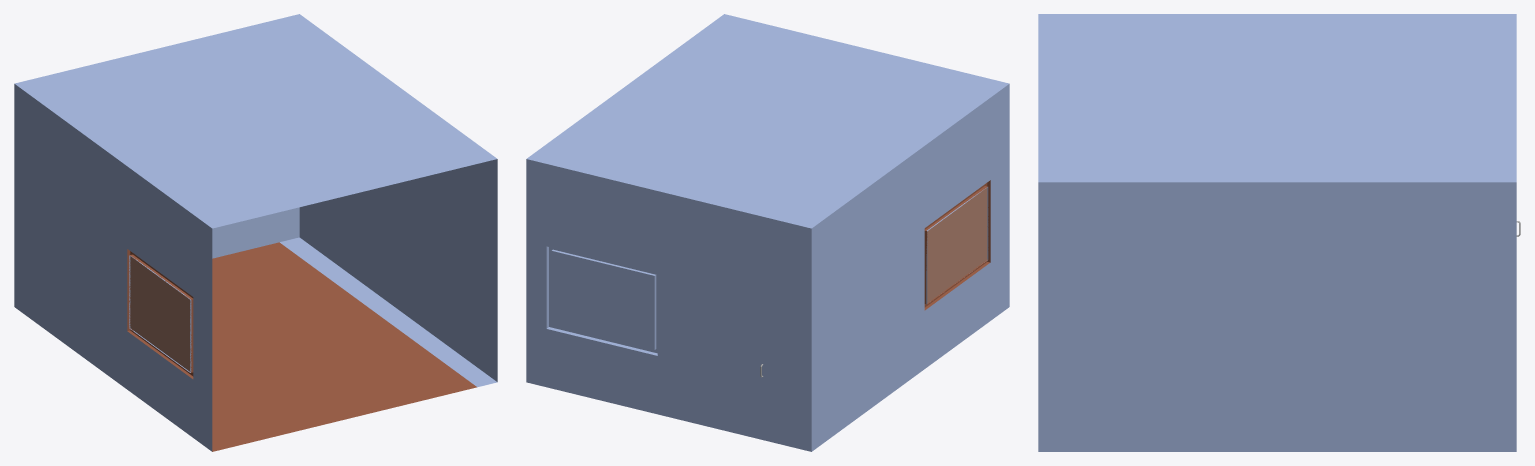
The model's file is Room.fbx.
3 renders of one model, left to right at view 1: azimuth 30°, elevation 25°; view 2: azimuth 150°, elevation 25°; view 3: azimuth 270°, elevation 25°, orthographic. The views are drawn at different scales.
Parts seen in each view (by area): view 1: Cube.013; view 2: Cube.013; view 3: Cube.013.
Boxes of the visible parts, bbox=[...] form: Cube.013: bbox=[14, 14, 497, 451]; Cube.013: bbox=[526, 14, 1009, 451]; Cube.013: bbox=[1038, 14, 1516, 451].
Size of the model in its own units: 735 by 549 by 890.
